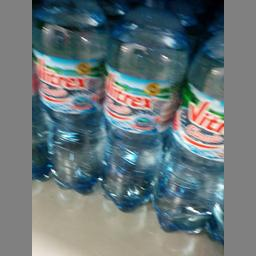water: (94, 2, 188, 212), (32, 0, 109, 195), (153, 30, 223, 234)
